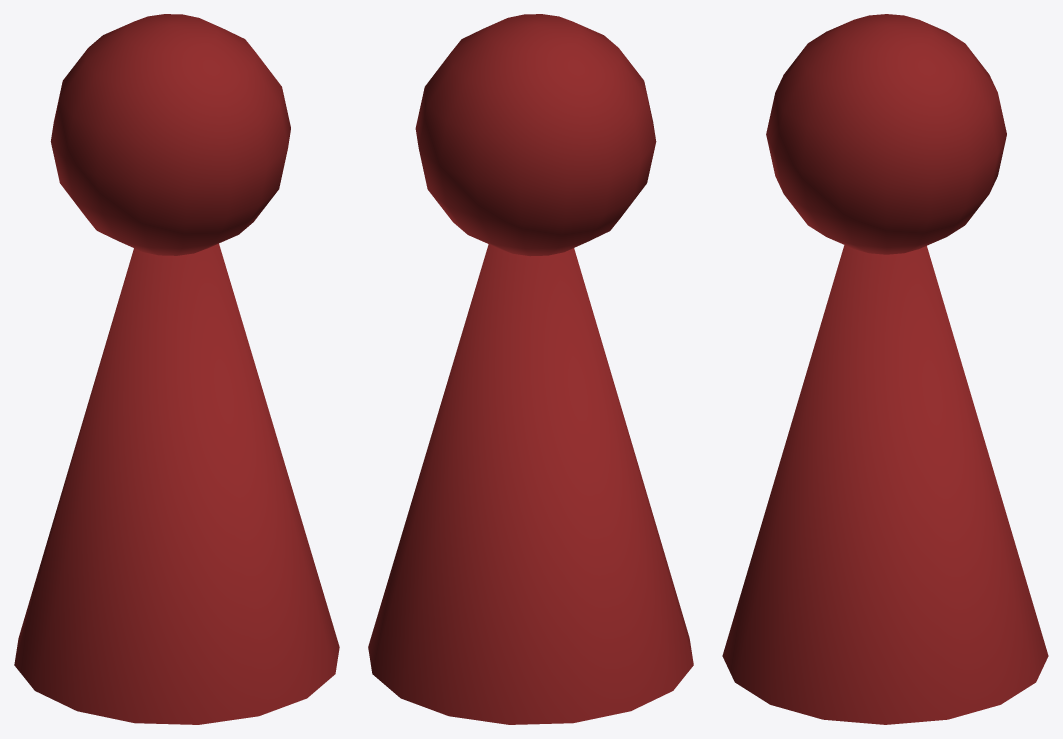
File: minion large.fbx
The picture shows the model from 3 angles, left to right: view 1: azimuth 30°, elevation 25°; view 2: azimuth 150°, elevation 25°; view 3: azimuth 270°, elevation 25°; orthographic projection.
Parts seen in each view (by area): view 1: normal enemy.001; view 2: normal enemy.001; view 3: normal enemy.001.
Part boxes in pixels (x1,y1,x2,y2): normal enemy.001: [14, 14, 339, 724]; normal enemy.001: [368, 14, 693, 724]; normal enemy.001: [722, 14, 1048, 724].
Size of the model in its own units: 9.89 by 21.01 by 9.89.
